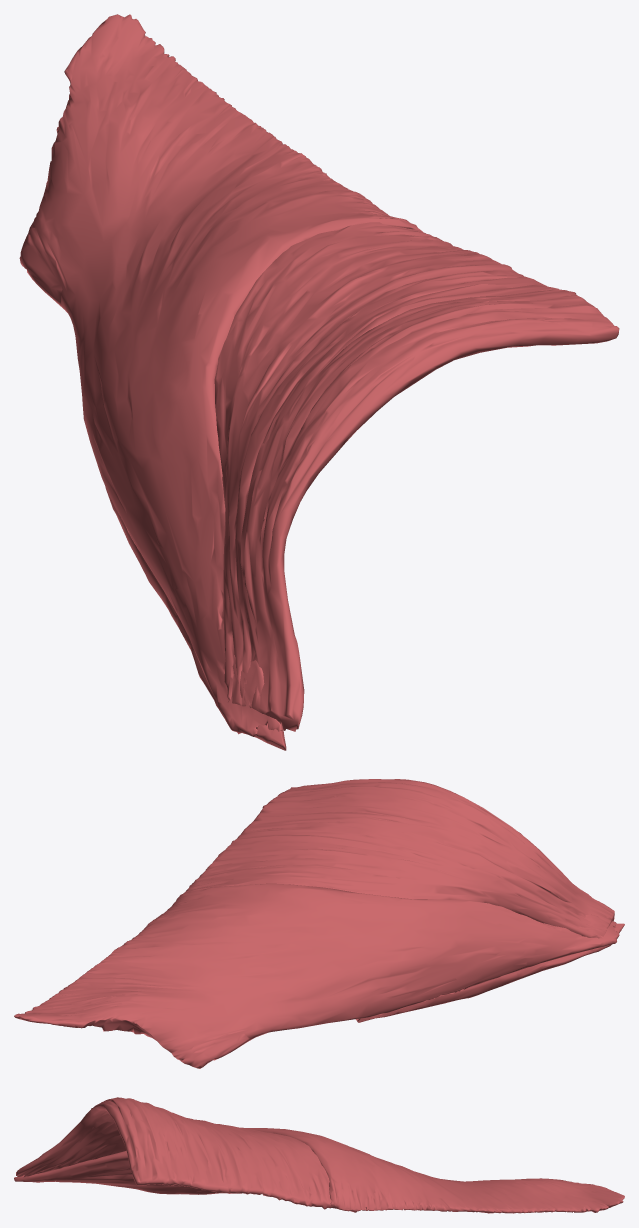
The picture shows the model from 3 angles, top to bottom: view 1: azimuth 30°, elevation 25°; view 2: azimuth 150°, elevation 25°; view 3: azimuth 270°, elevation 25°; orthographic projection. The views are drawn at different scales.
Visible parts, largest first — view 1: 右侧背阔肌; view 2: 右侧背阔肌; view 3: 右侧背阔肌.
Part boxes in pixels (x1,y1,x2,y2): 右侧背阔肌: [19, 14, 619, 750]; 右侧背阔肌: [14, 779, 624, 1068]; 右侧背阔肌: [14, 1097, 624, 1213].
Bounding box in the file's own units: 0.2753 × 0.1498 × 0.6047.
